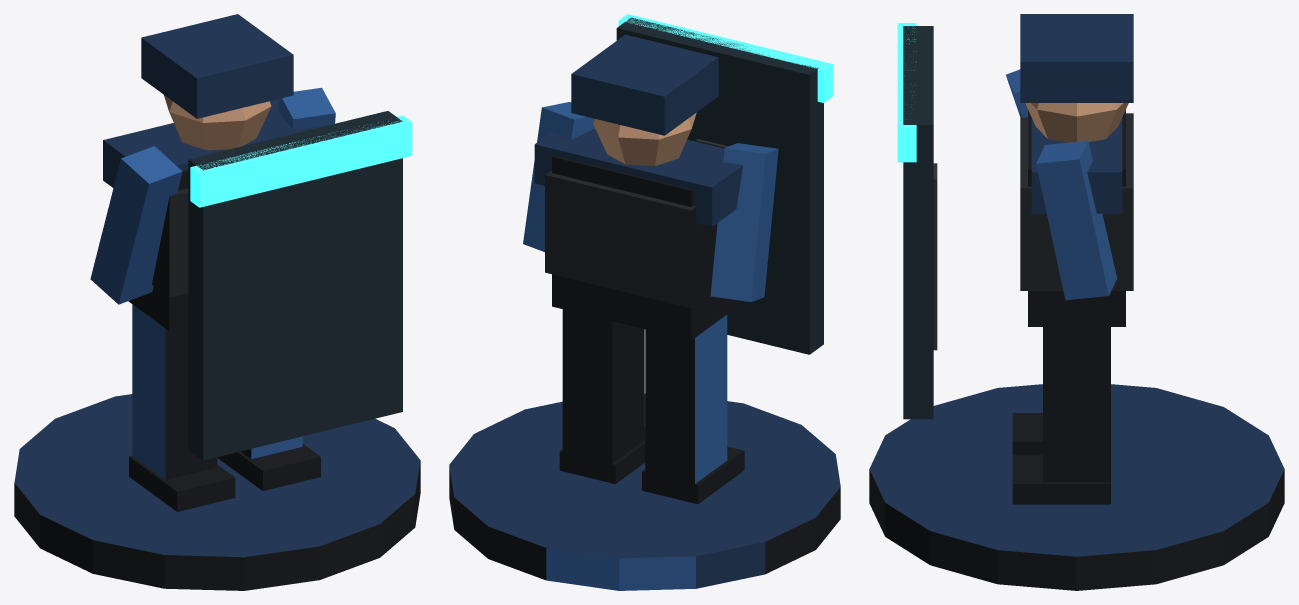
The model's file is police_shield.glb.
The picture shows the model from 3 angles, left to right: view 1: azimuth 30°, elevation 25°; view 2: azimuth 150°, elevation 25°; view 3: azimuth 270°, elevation 25°; orthographic projection. The views are drawn at different scales.
Parts seen in each view (by area): view 1: police_shield; view 2: police_shield; view 3: police_shield.
Boxes of the visible parts, left/top/right/bottom form: police_shield: left=14, top=14, right=420, bottom=590; police_shield: left=449, top=14, right=840, bottom=590; police_shield: left=869, top=14, right=1284, bottom=590.
Bounding box in the file's own units: 1.1 × 1.36 × 1.1.
